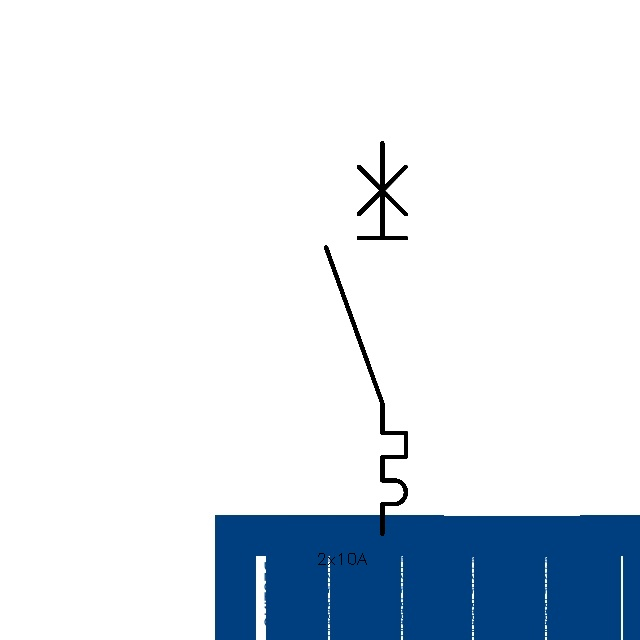interruptor_termomagnetico: (316, 133, 416, 544)
